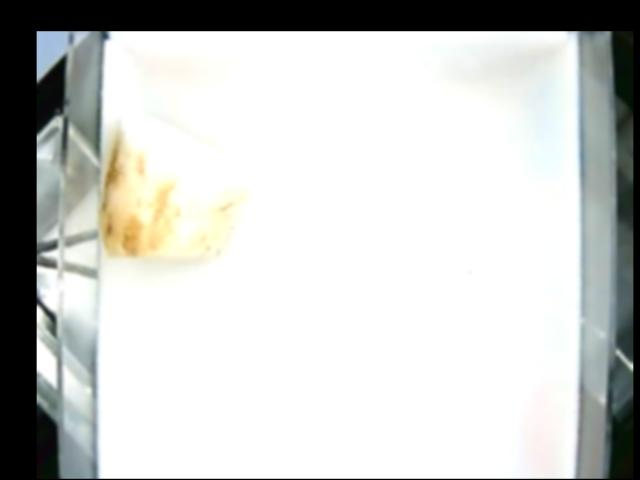Mooli: (100, 109, 253, 259)
